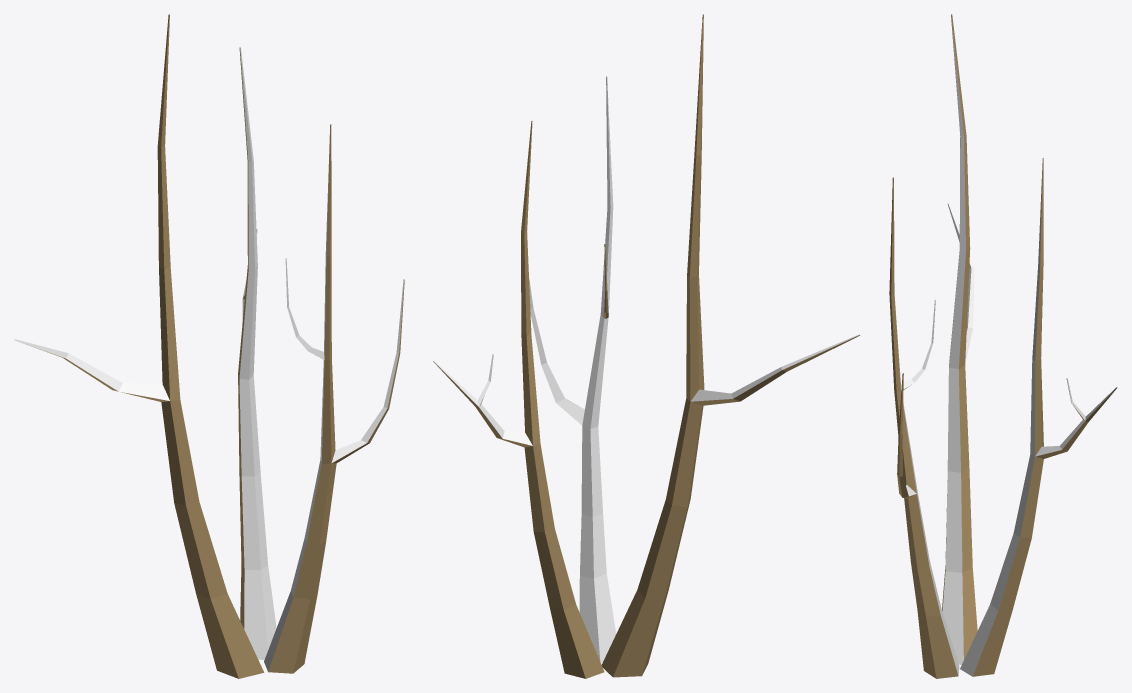
Rendered from Random_Tree_NoLeaves_m_Snow_02_LOD.fbx.
The picture shows the model from 3 angles, left to right: view 1: azimuth 30°, elevation 25°; view 2: azimuth 150°, elevation 25°; view 3: azimuth 270°, elevation 25°; orthographic projection. The views are drawn at different scales.
Visible parts, largest first — view 1: Random_Tree_NoLeaves_m_Snow_02_LOD0; view 2: Random_Tree_NoLeaves_m_Snow_02_LOD0; view 3: Random_Tree_NoLeaves_m_Snow_02_LOD0.
Boxes of the visible parts, bbox=[...] form: Random_Tree_NoLeaves_m_Snow_02_LOD0: bbox=[14, 14, 404, 678]; Random_Tree_NoLeaves_m_Snow_02_LOD0: bbox=[433, 14, 860, 678]; Random_Tree_NoLeaves_m_Snow_02_LOD0: bbox=[889, 14, 1117, 678].
Size of what is drawn, in the model's own units: 481 by 849 by 288.
